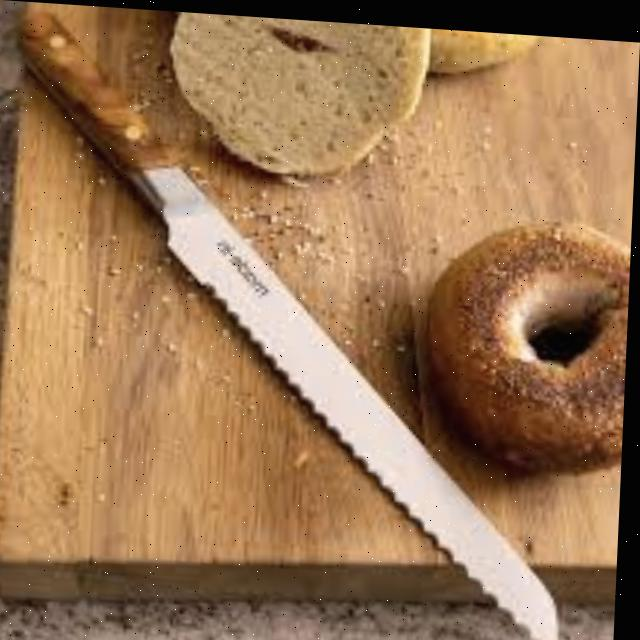Knife: (0, 4, 591, 640)
